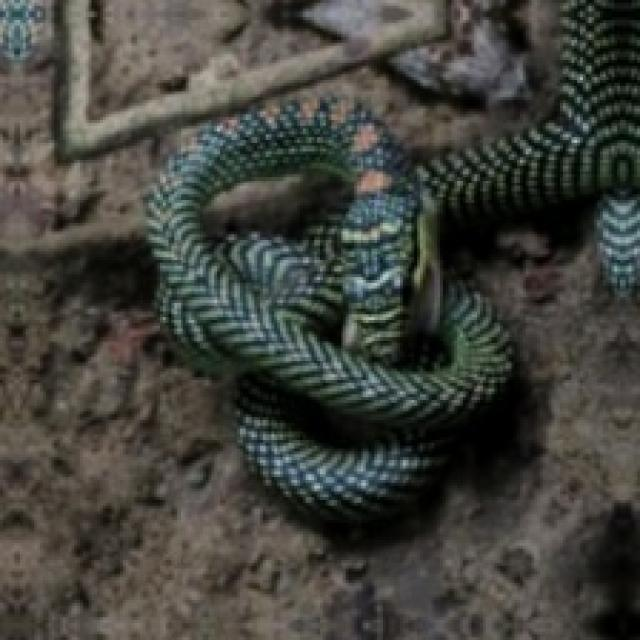paradise tree snake: (149, 0, 637, 520)
